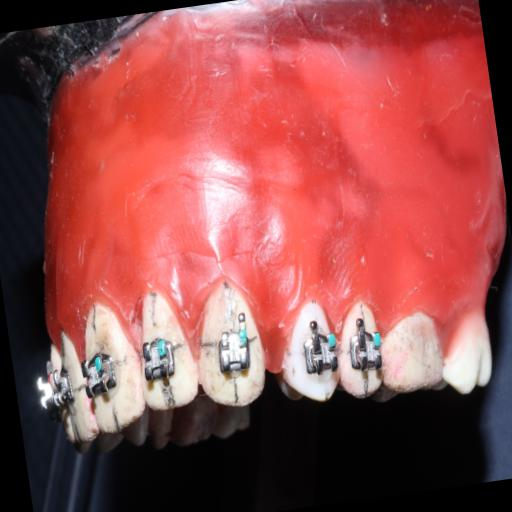incorrect_brace: (130, 284, 203, 416), (212, 323, 256, 376), (140, 334, 180, 388)
